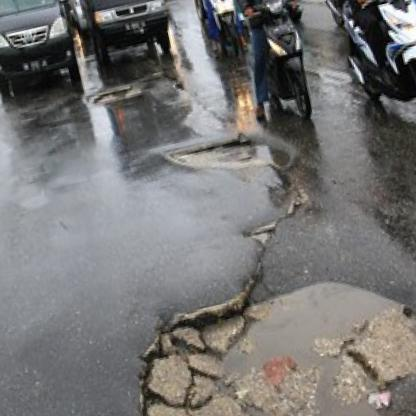pothole: (108, 248, 416, 416), (160, 118, 296, 196), (91, 81, 142, 108)
